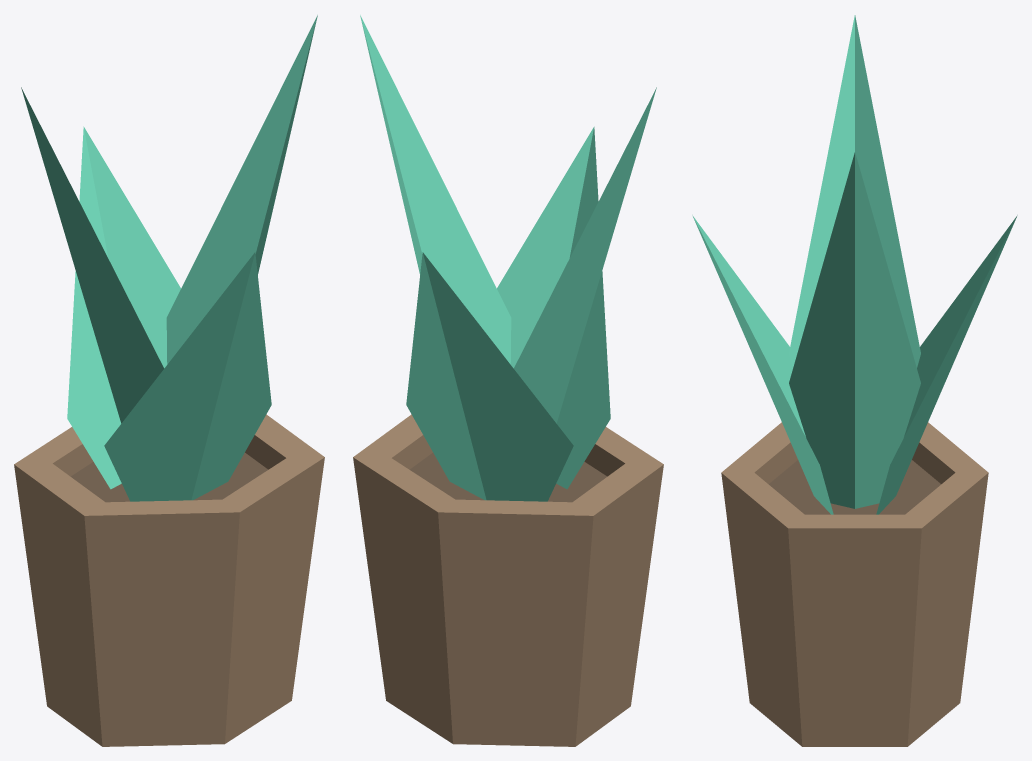
File: plant.glb
3 views of the same model, side by side, from view 1: azimuth 30°, elevation 25°; view 2: azimuth 150°, elevation 25°; view 3: azimuth 270°, elevation 25° (orthographic). The views are drawn at different scales.
Visible parts, largest first — view 1: pottedPlant(Clone), plant; view 2: pottedPlant(Clone), plant; view 3: pottedPlant(Clone), plant.
Boxes of the visible parts, box(x1,y1,x2,y2) form: pottedPlant(Clone): box(14, 414, 324, 746); plant: box(21, 15, 317, 501); pottedPlant(Clone): box(353, 414, 663, 746); plant: box(360, 15, 656, 501); pottedPlant(Clone): box(721, 422, 988, 746); plant: box(692, 15, 1017, 514).
Size of the model in its own units: 0.5 by 1.05 by 0.5.
